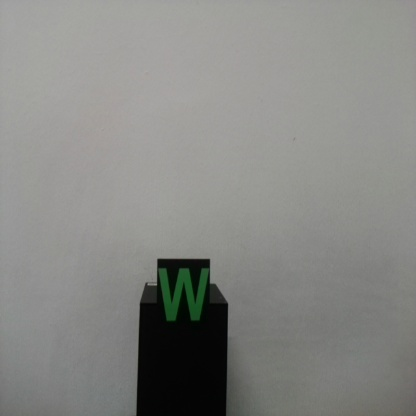id_12: (156, 257, 211, 335)
